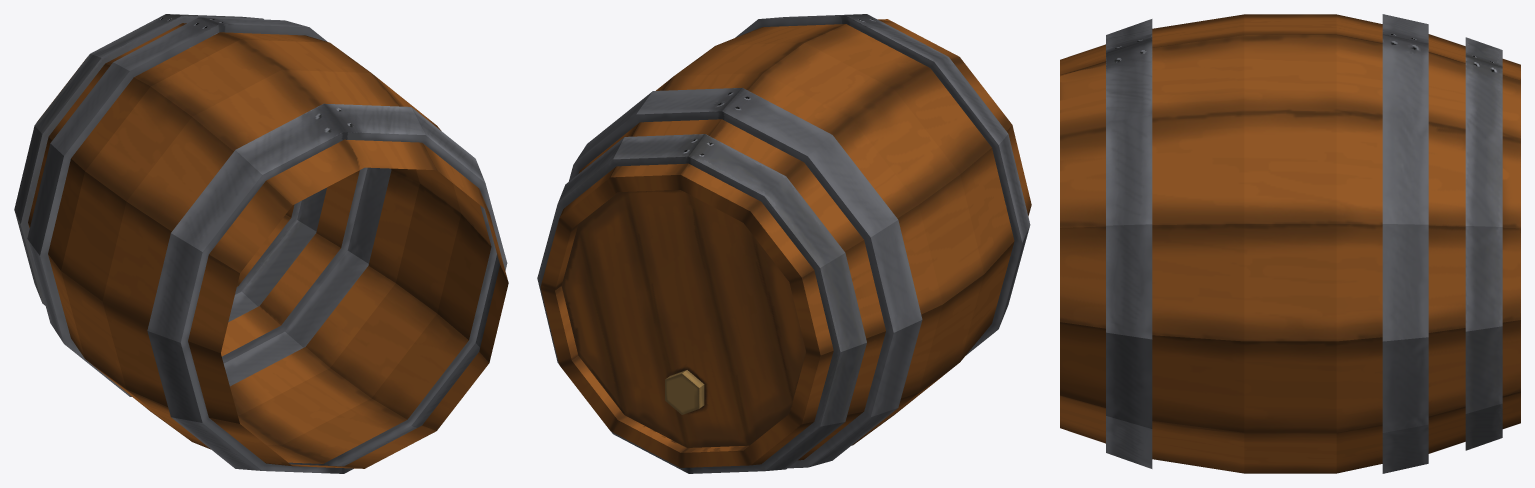
File: closedBarrel.dae
3 renders of one model, left to right at view 1: azimuth 30°, elevation 25°; view 2: azimuth 150°, elevation 25°; view 3: azimuth 270°, elevation 25°, orthographic. The views are drawn at different scales.
Parts seen in each view (by area): view 1: Cylinder_003; view 2: Cylinder_003; view 3: Cylinder_003.
Boxes of the visible parts, <box> form: Cylinder_003: <box>14,14,508,473</box>; Cylinder_003: <box>537,14,1031,473</box>; Cylinder_003: <box>1060,14,1520,473</box>.
Bounding box in the file's own units: 2 × 2 × 2.
1 material, 1 textured.
